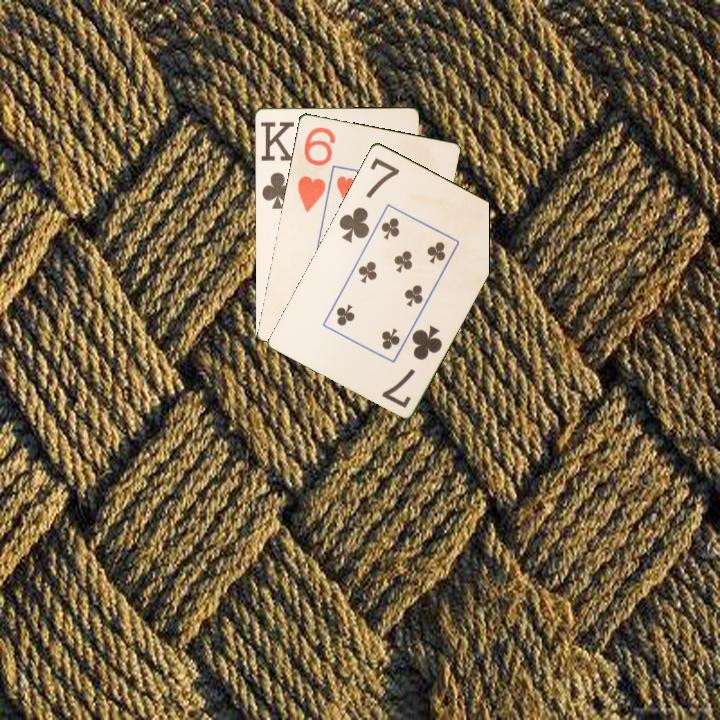6h: (294, 123, 338, 215)
7c: (335, 153, 402, 245), (378, 321, 445, 411)
Kc: (257, 118, 296, 212)
